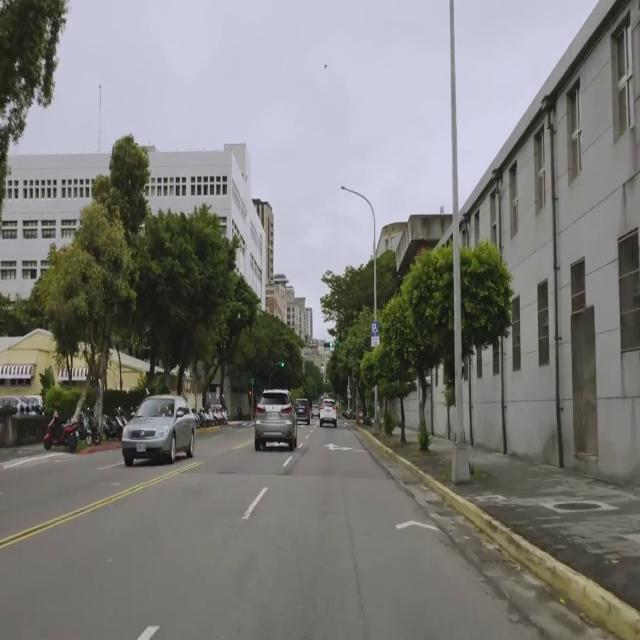green light: (324, 342, 333, 348), (276, 362, 284, 368)
